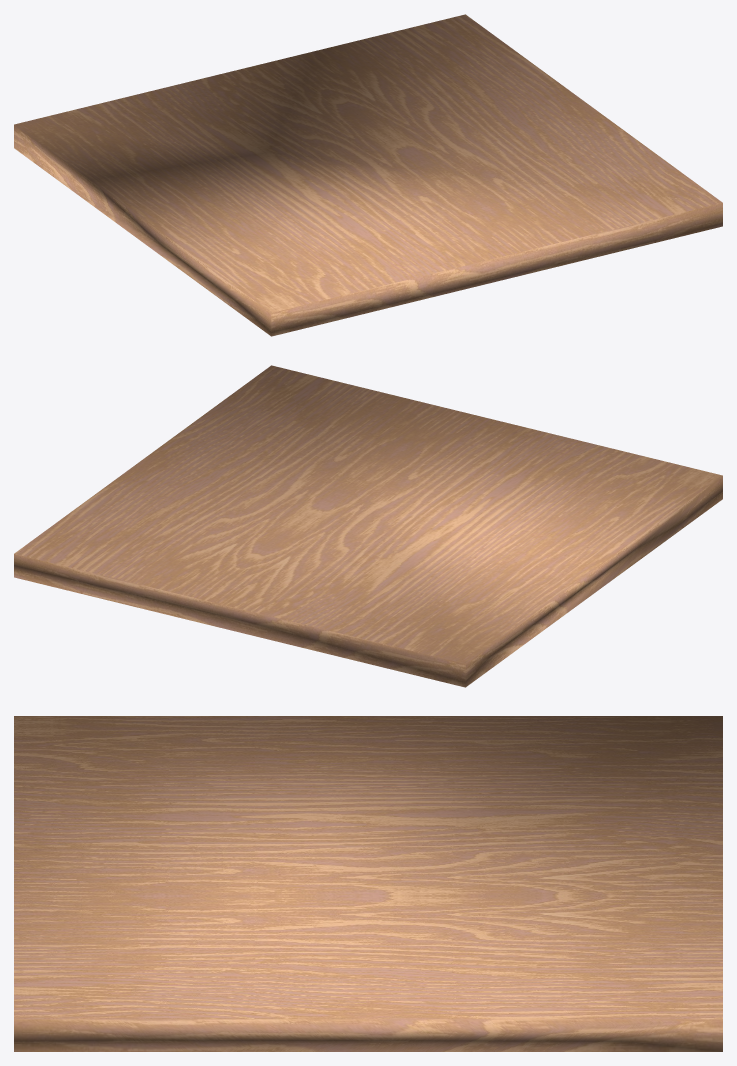
File: door.obj
The picture shows the model from 3 angles, top to bottom: view 1: azimuth 30°, elevation 25°; view 2: azimuth 150°, elevation 25°; view 3: azimuth 270°, elevation 25°; orthographic projection. The views are drawn at different scales.
Visible parts, largest first — view 1: door; view 2: door; view 3: door.
Boxes of the visible parts, x1=… form: door: x1=14, y1=14, x2=722, y2=336; door: x1=14, y1=365, x2=722, y2=687; door: x1=14, y1=716, x2=722, y2=1051.
Bounding box in the file's own units: 0.4 × 0.055 × 0.395.
